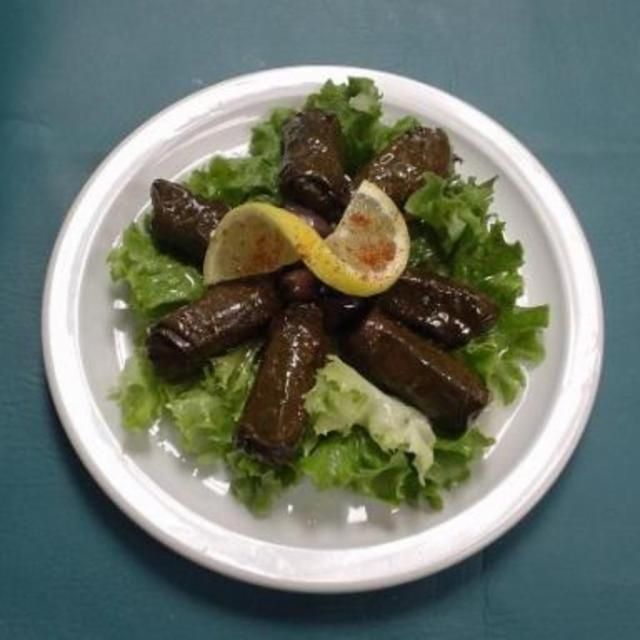Salad: (102, 72, 552, 516)
